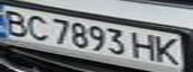3: (106, 26, 130, 56)
7: (48, 16, 72, 45)
8: (66, 20, 90, 50)
9: (87, 22, 109, 52)
B: (0, 7, 33, 37)
C: (24, 11, 51, 42)
H: (130, 30, 160, 61)
K: (151, 34, 184, 66)
